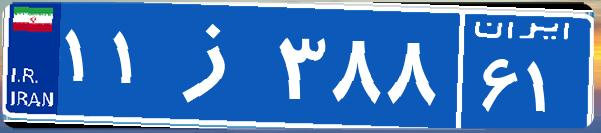1: (57, 26, 110, 107), (110, 28, 158, 105), (525, 38, 570, 115)
3: (273, 28, 330, 110)
6: (475, 38, 525, 113)
8: (385, 28, 445, 110), (330, 28, 385, 110)
ز: (158, 15, 273, 115)
